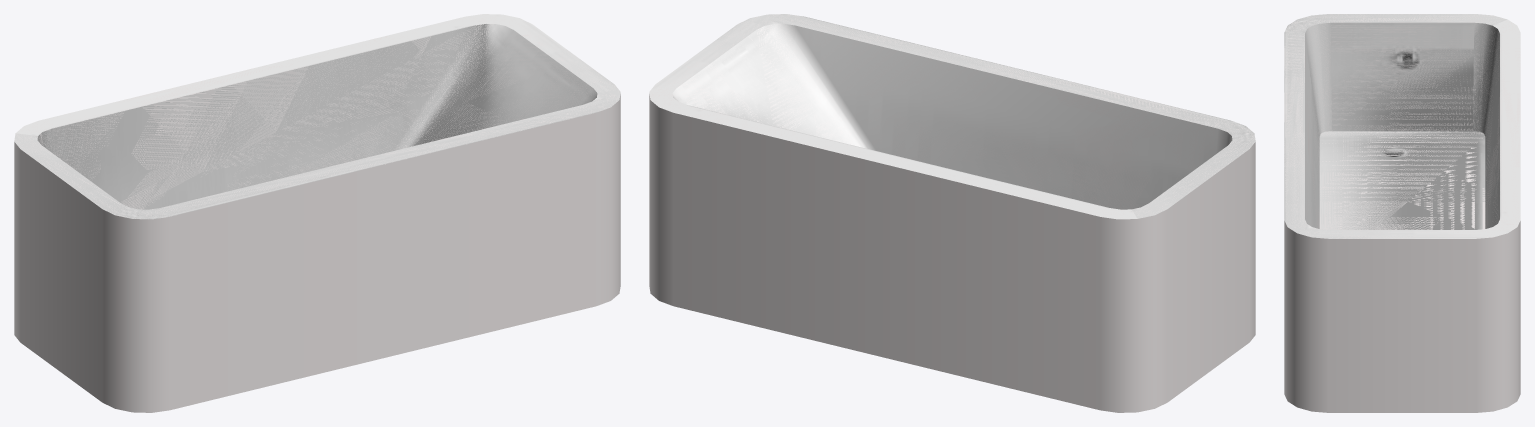
Rendered from bathtub.dae.
3 renders of one model, left to right at view 1: azimuth 30°, elevation 25°; view 2: azimuth 150°, elevation 25°; view 3: azimuth 270°, elevation 25°, orthographic. The views are drawn at different scales.
Visible parts, largest first — view 1: Component (×2); view 2: Component (×2); view 3: Component (×2).
Boxes of the visible parts, x1,y1,x2,y2 form: Component (×2): (14,14,620,412); Component (×2): (649,14,1255,412); Component (×2): (1284,14,1520,412).
Bounding box in the file's own units: 70.87 × 31.49 × 25.59.
Materials: 3 (1 with a texture image).
